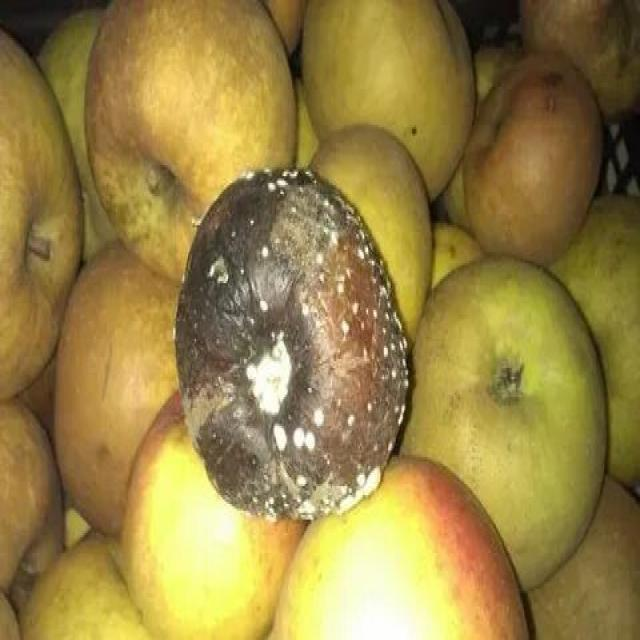Fresh Apple: (417, 268, 620, 554)
Rotten: (185, 155, 423, 528)
